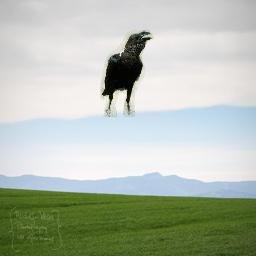Crow: (100, 29, 154, 117)
